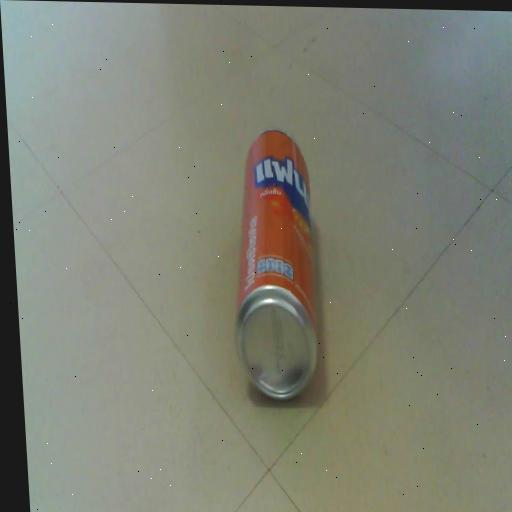canned: (206, 119, 336, 407)
